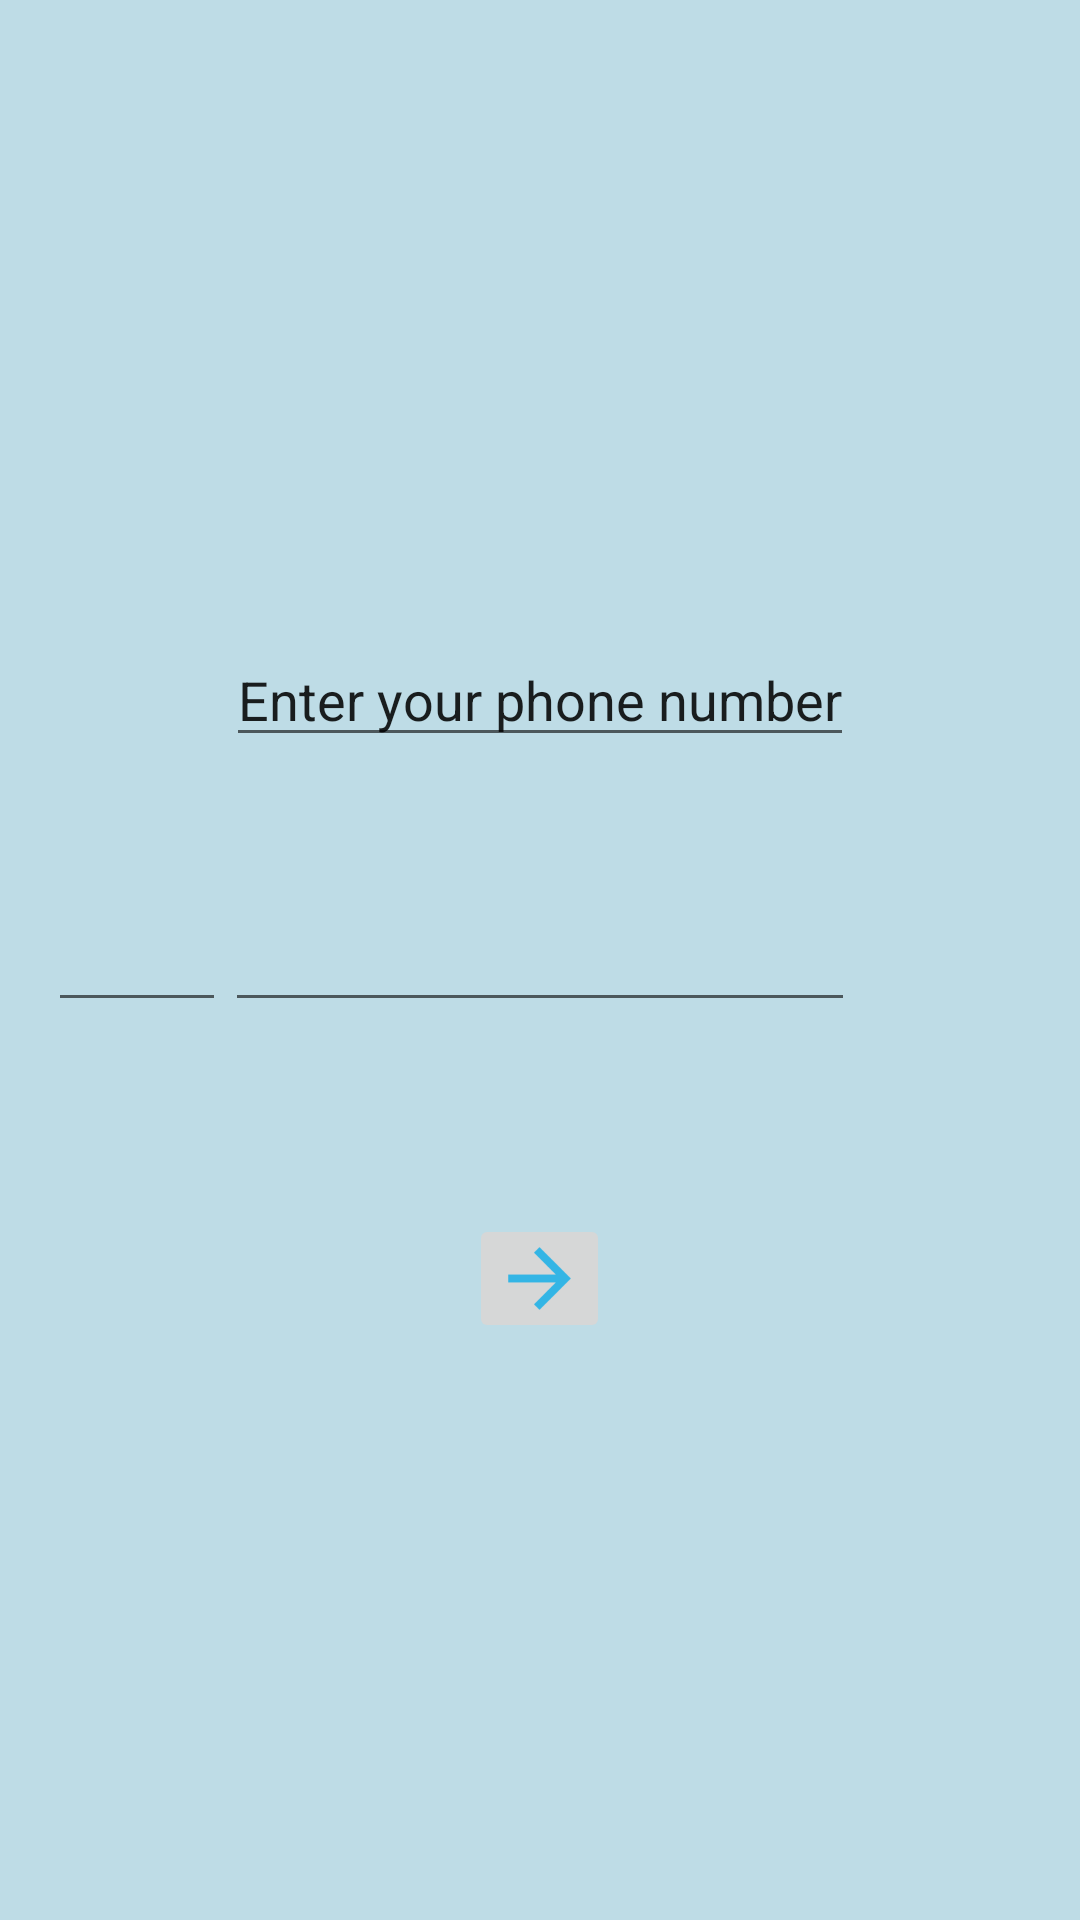

Named icons in this screenshot (1080px x 1920px) and their centers, point (x, y):
navigation arrow forward: point (539, 1278)
